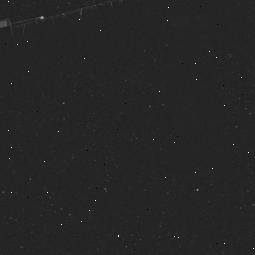xmm_newton: (0, 4, 162, 52)
